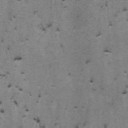oxide scale of temperature system: (0, 46, 46, 128), (96, 0, 128, 52), (67, 59, 94, 83), (42, 22, 60, 32), (122, 84, 128, 94), (75, 122, 82, 128), (103, 122, 108, 128), (13, 14, 16, 19)
